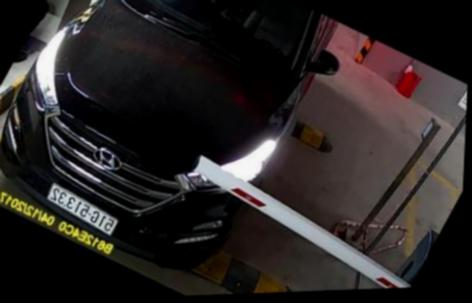License_Plate: (39, 175, 121, 237)
